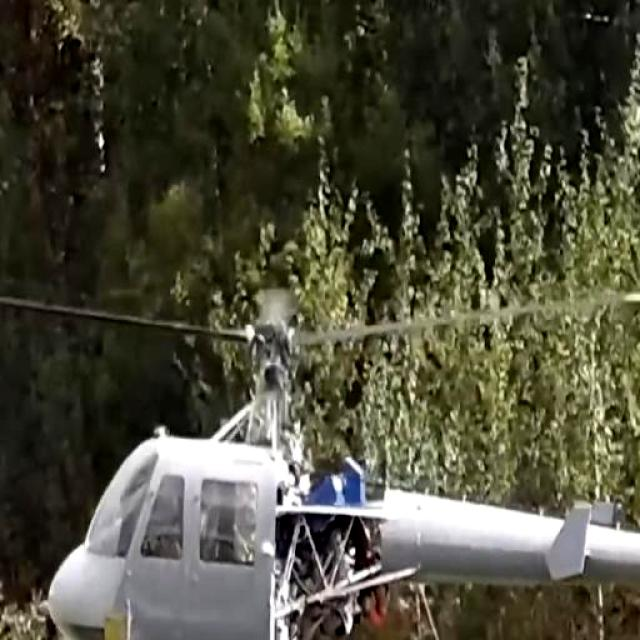drone: (0, 250, 640, 640)
